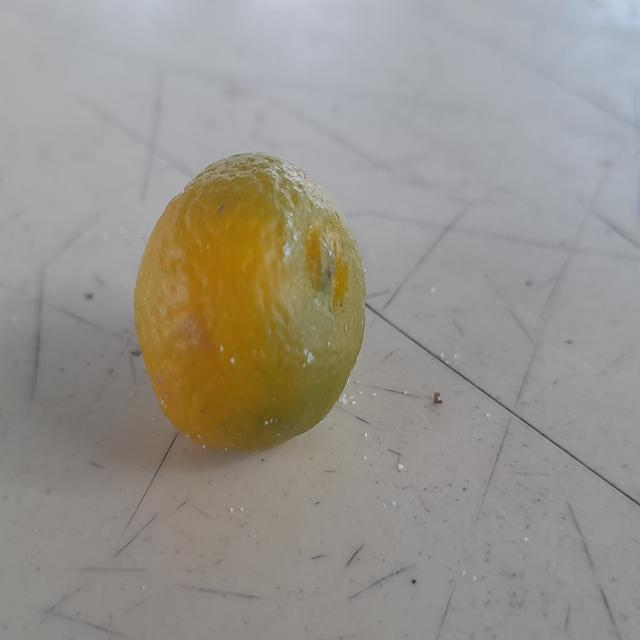greening: (125, 143, 365, 465)
